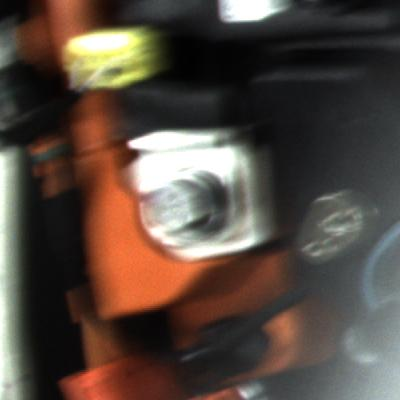nut_b: (143, 165, 230, 250)
